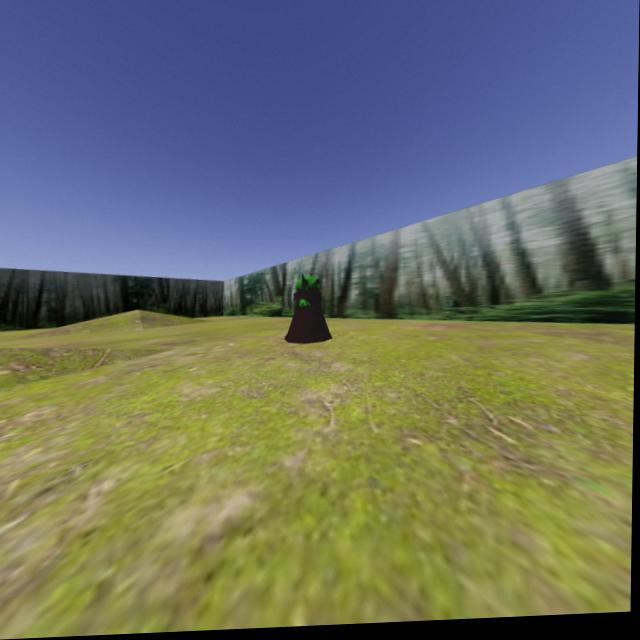yoda: (284, 270, 331, 348)
